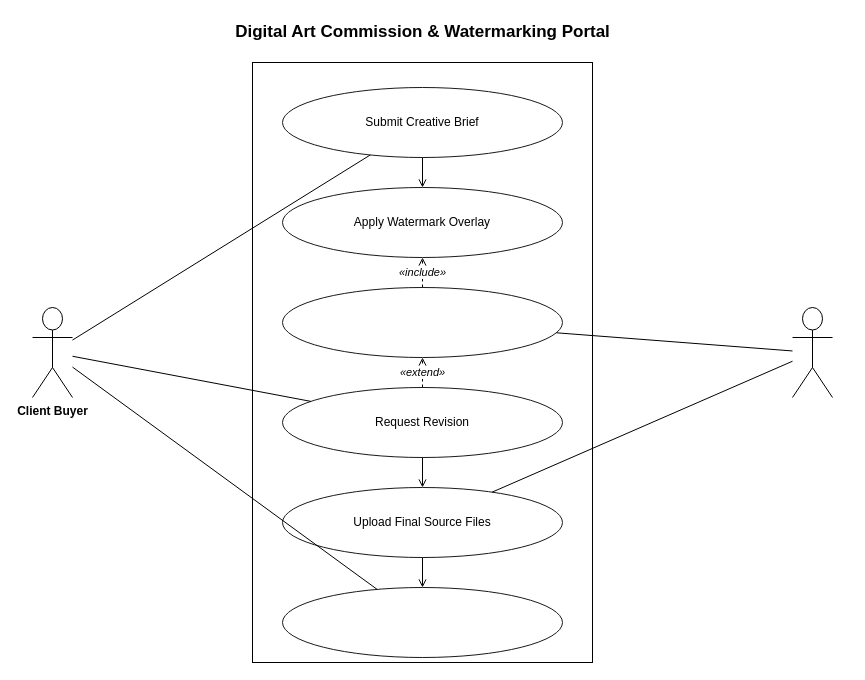
The diagram is 865 pixels wide and 680 high, and some of its shapes have lost their labels. The shapes that lost their labels are listed below. From the top down, each one's centre as x and y in pixels, then its label:
At point (422, 322): "Submit WIP Draft".
At point (812, 352): "Digital Artist".
At point (422, 622): "Download Final Artwork".
